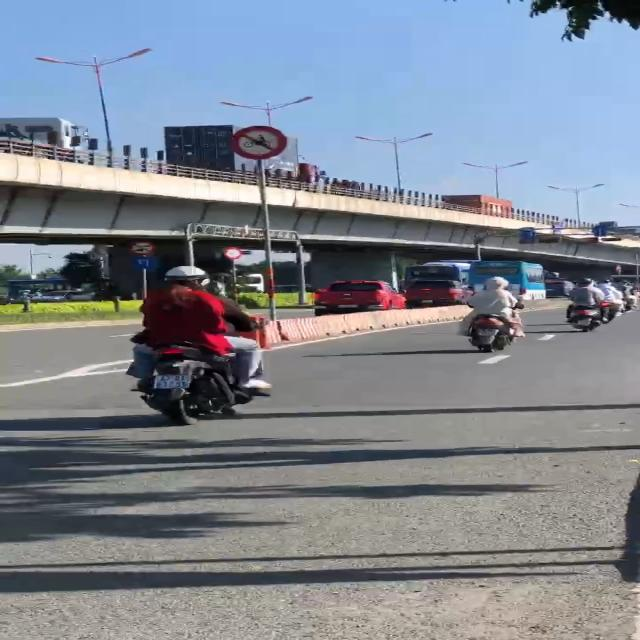Bien bao cam xe may: (228, 125, 290, 162)
